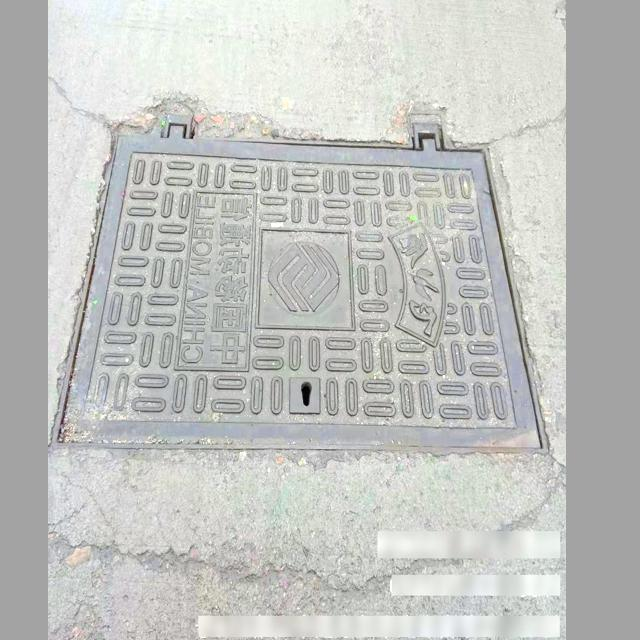good: (51, 109, 548, 453)
